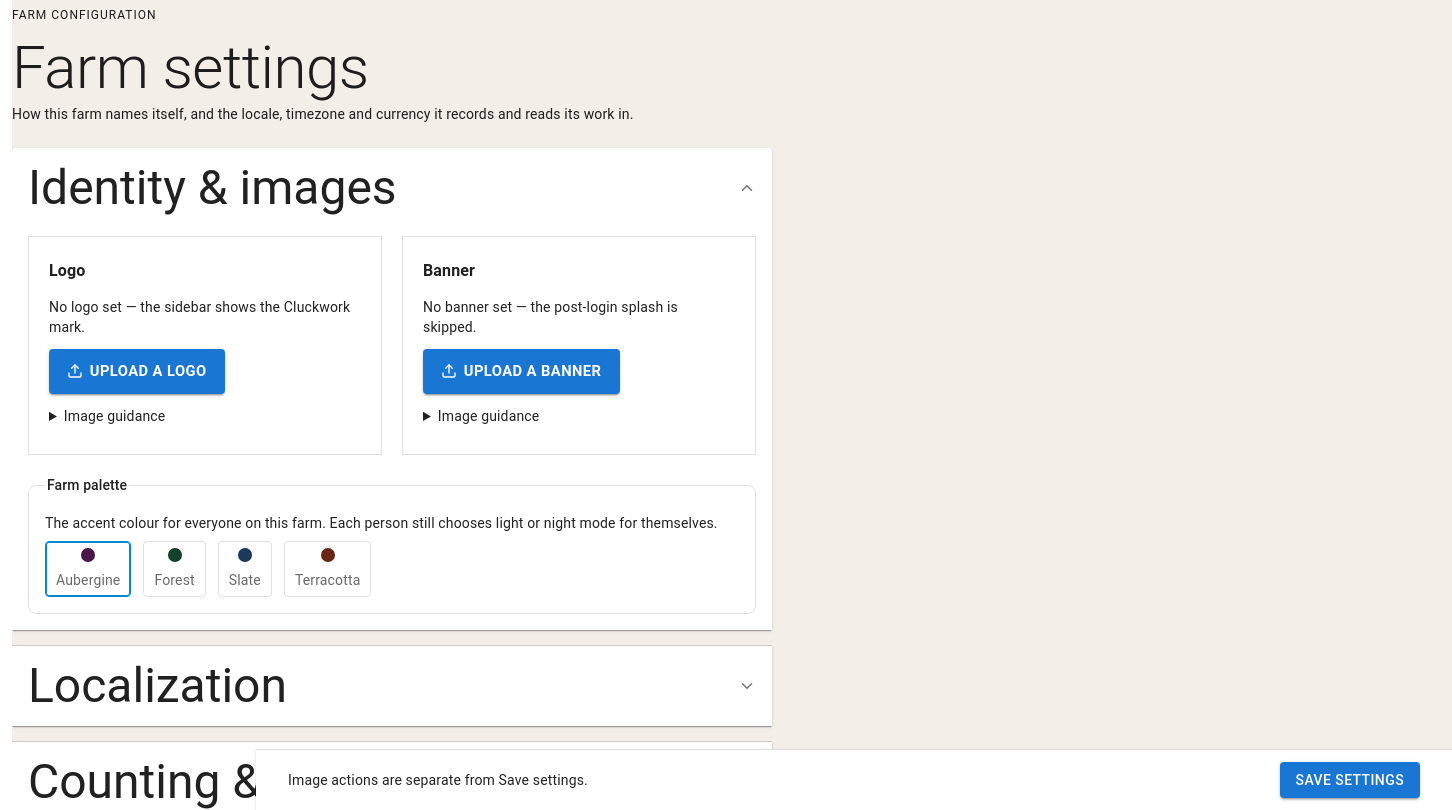
Scenario: SettingsPage saving › reports a failed read-back as a REFRESH failure, and refuses to save again
This screenshot has width=1452, height=810.
Expected: the button "Localization" is shown, [12,646,772,726]
What coordinates should you click on to do the following:
click the button "Save settings"
I would click on:
 (1350, 780)
Its box is [1280,762,1420,798].
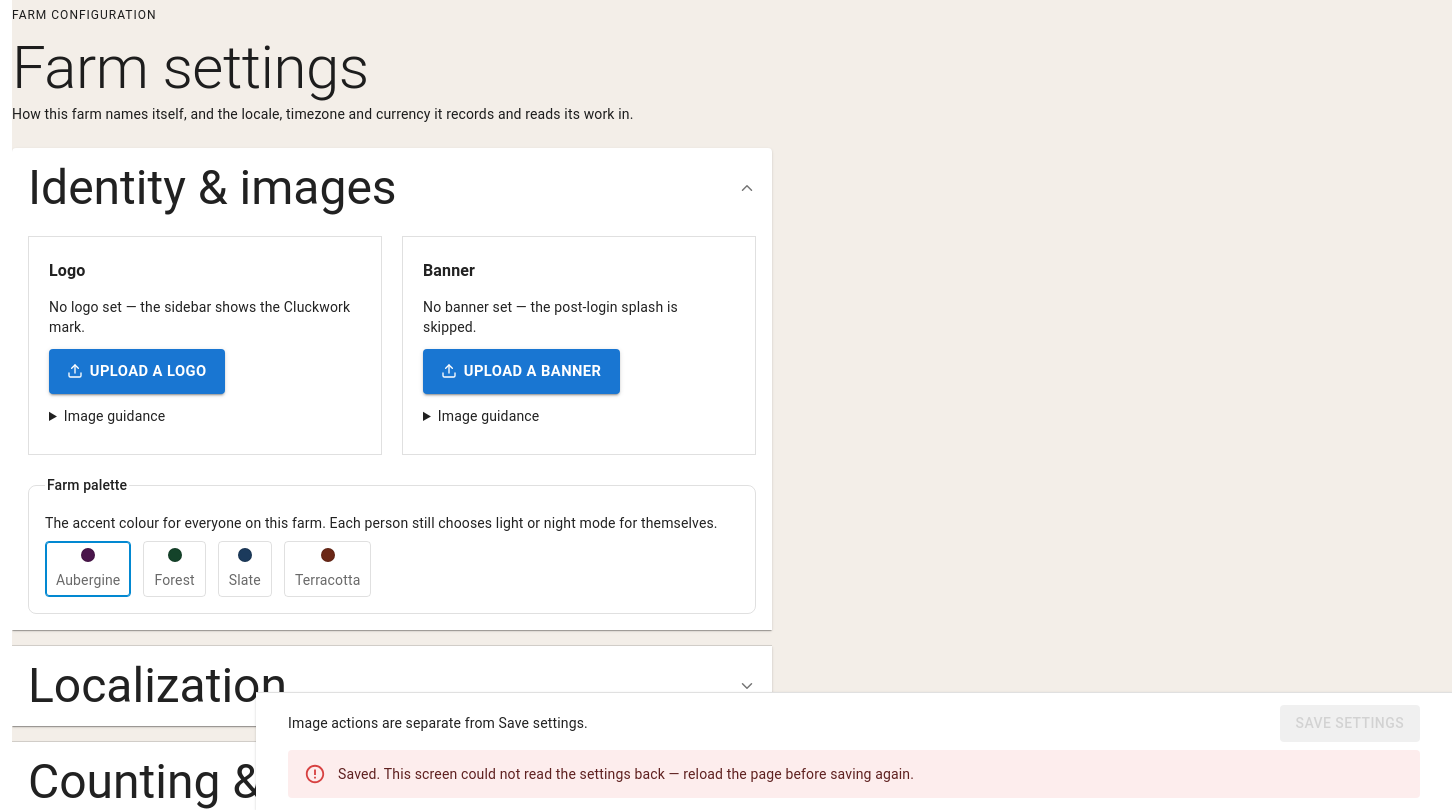
Expected: the message shows "Saved. This screen could not read the settings back", [338,766,914,782]
Expected: the button "Save settings" is disabled, [1280,706,1420,742]
